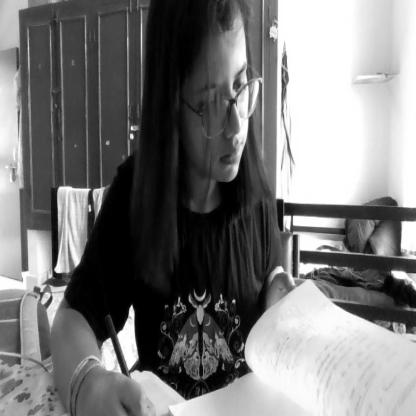Distracted: (153, 0, 255, 198)
